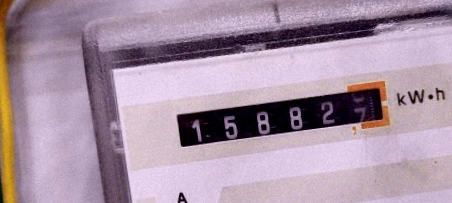1: (187, 115, 205, 144)
2: (317, 97, 337, 127)
5: (219, 111, 240, 140)
7: (350, 103, 368, 122)
8: (252, 107, 271, 137), (286, 102, 304, 132)
screen: (160, 71, 401, 161)
